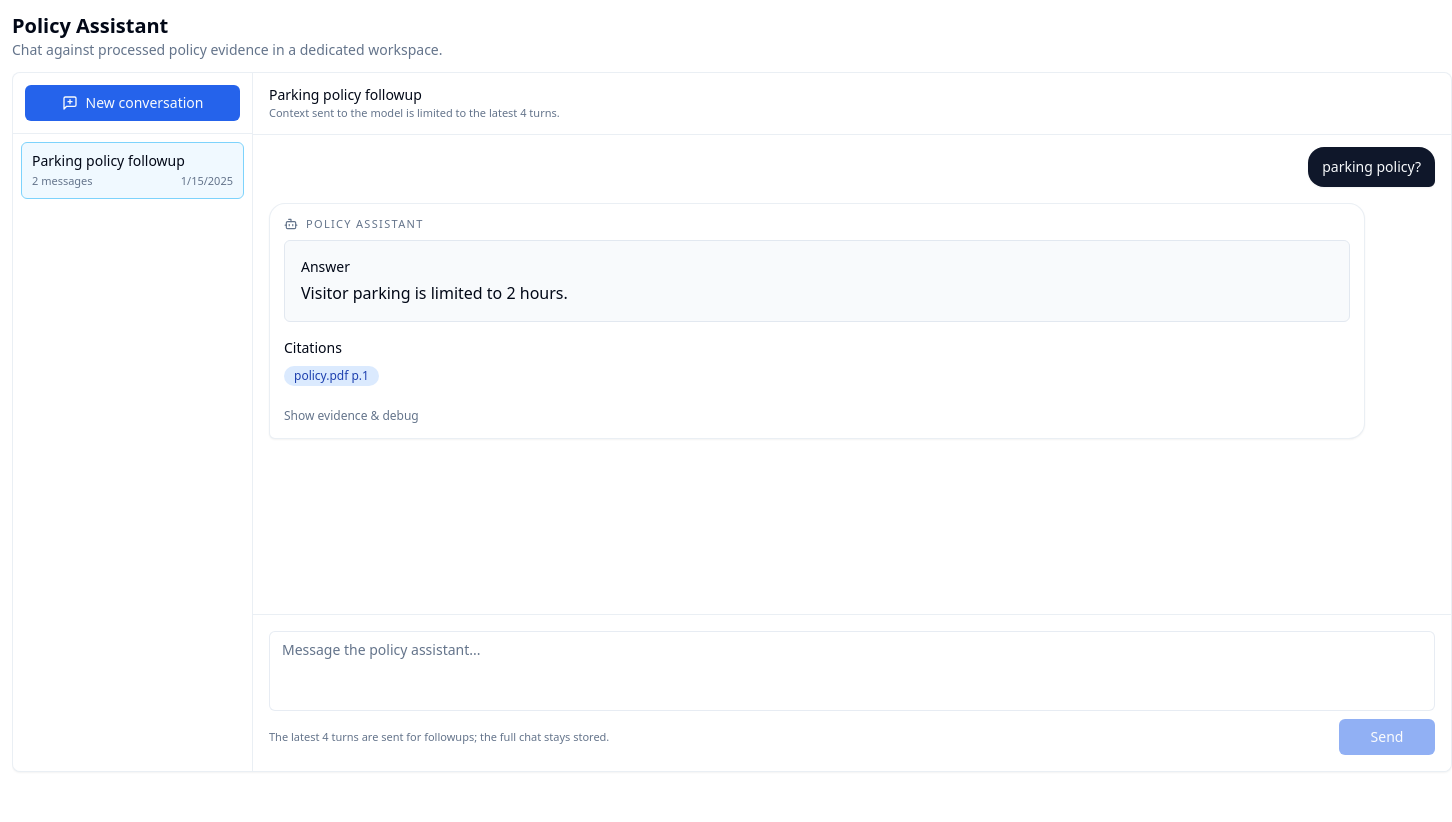
Pending assistant bubble › shows pending assistant bubble immediately after submit
Click the button "Parking policy followup 2 messages 1/15/2025" at point(132, 170), box [21,142,244,198]
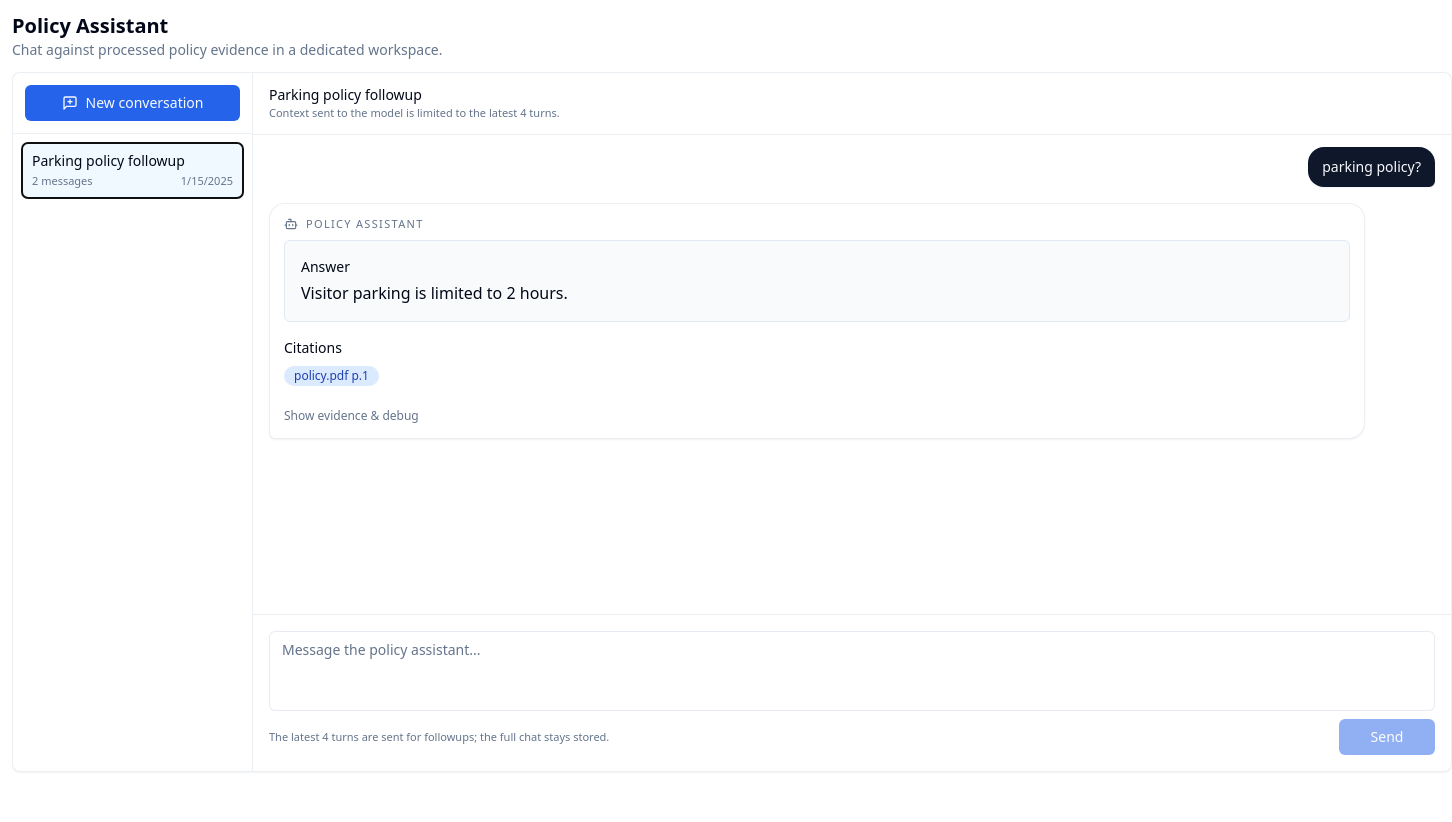
Expected: the text "parking policy?" is shown, [1308,146,1435,186]
Type "what about overtime?" into the text box with placeholder "Message the policy assistant..." at point(852, 671), box [269,631,1435,711]
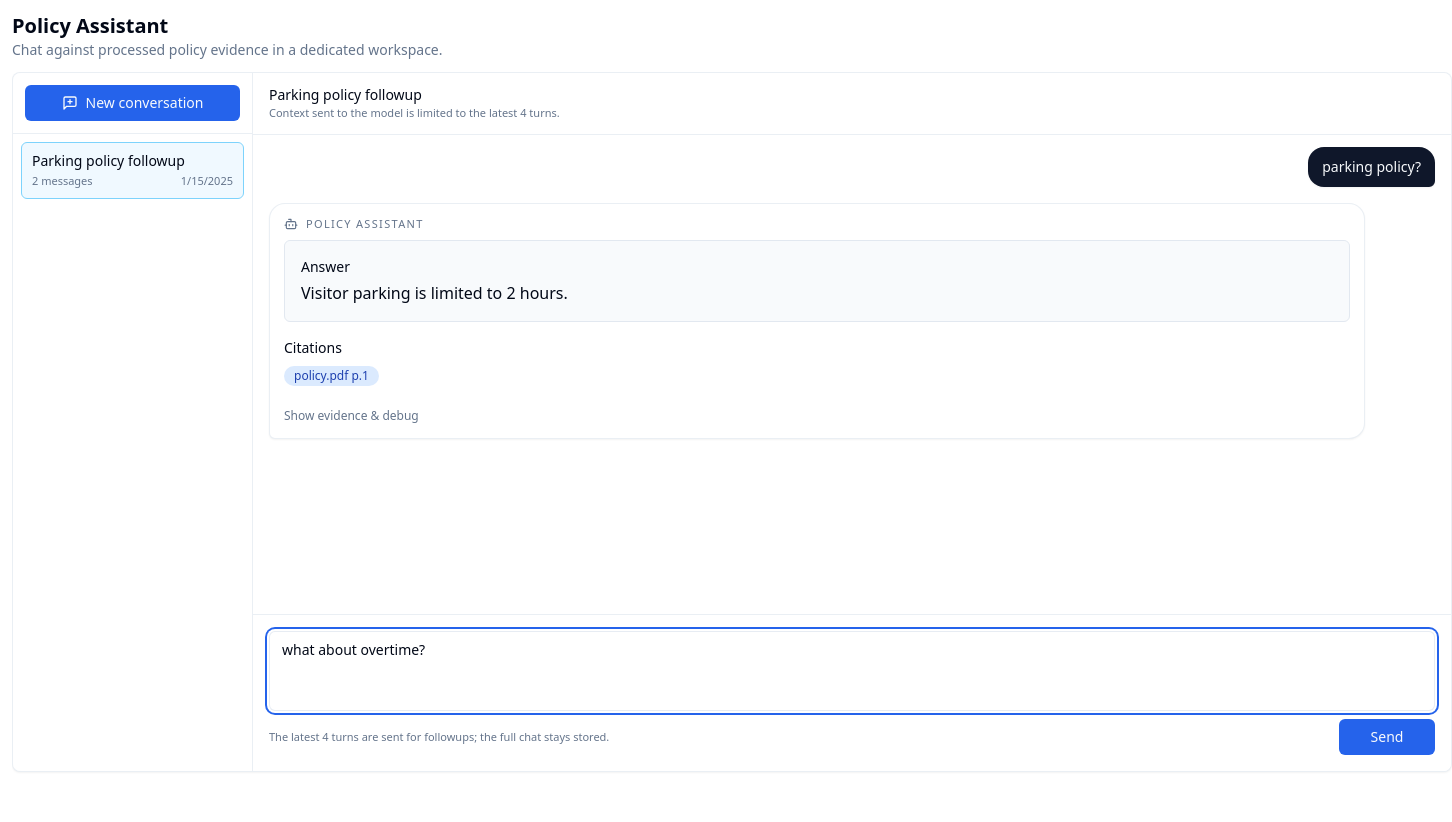
Click the button "Send" at point(1387, 737), box [1339,719,1435,755]
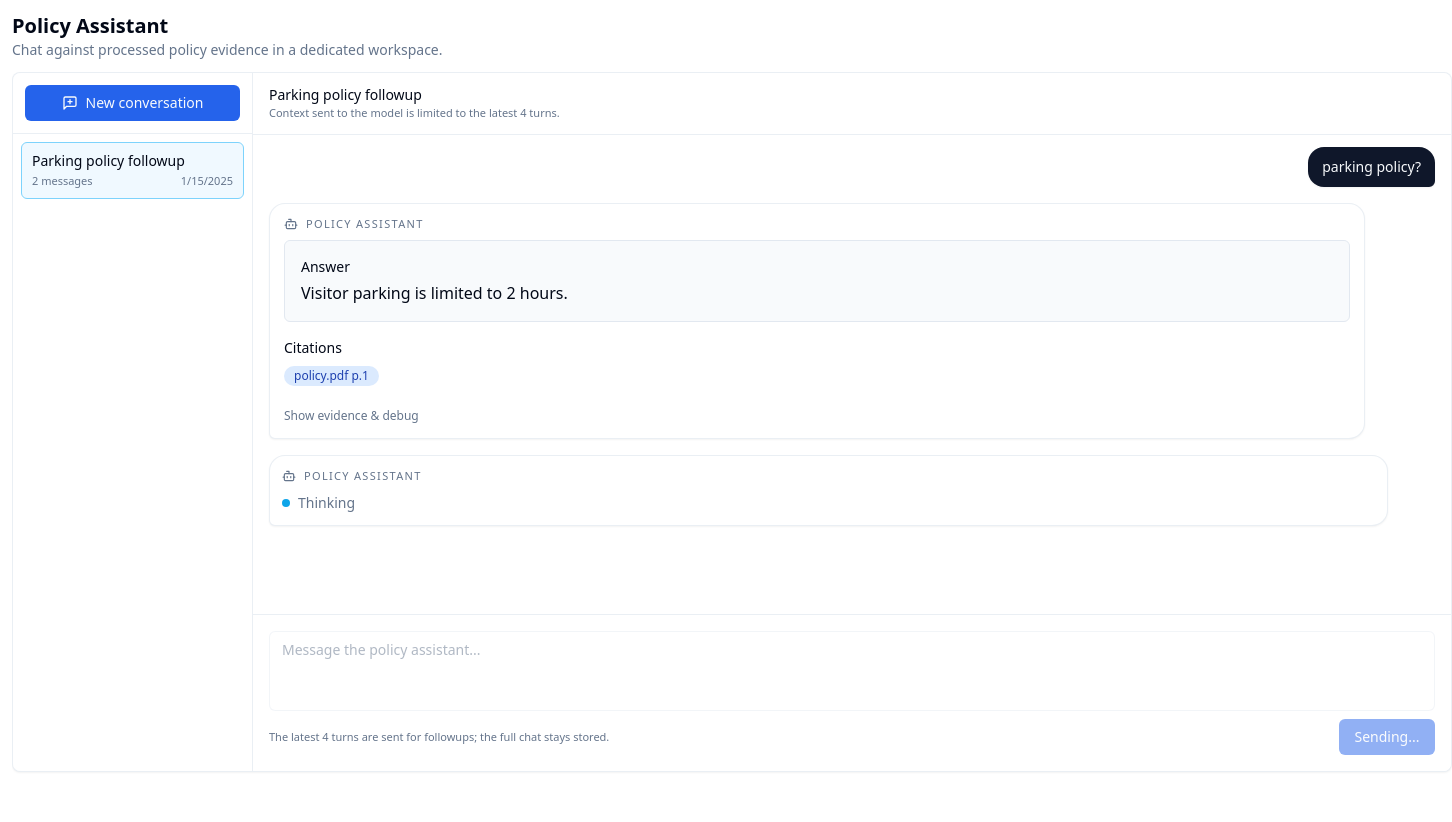
Result: the element with test id "pending-assistant-bubble" is shown at [269,455,1435,526]
